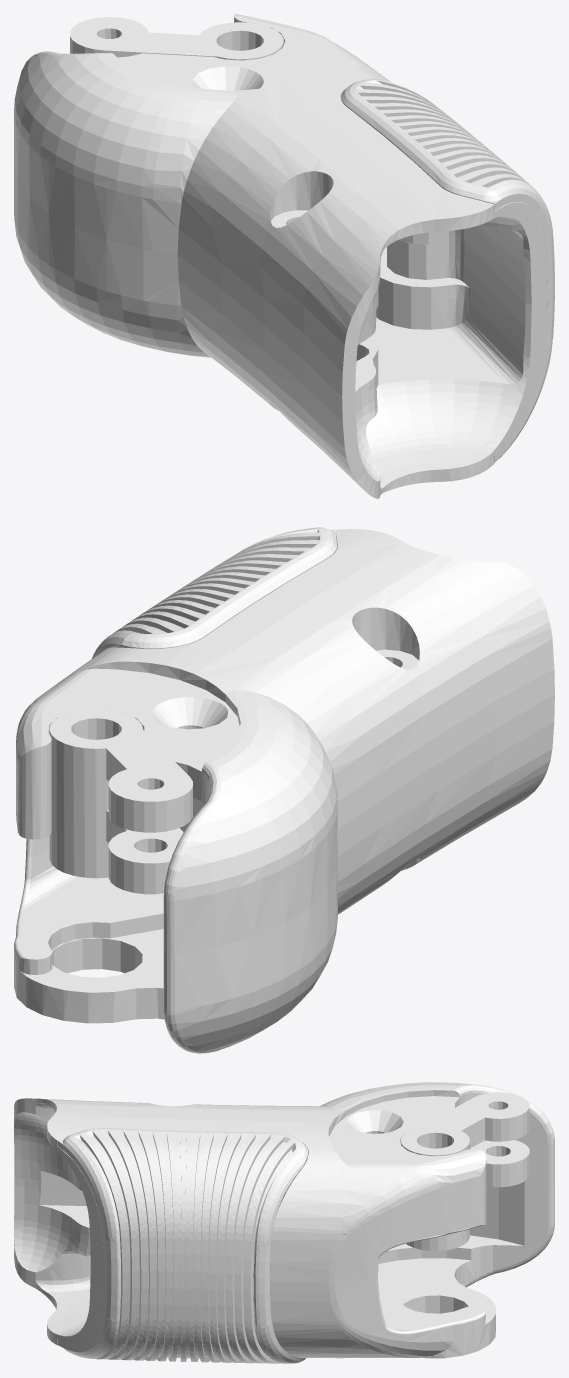
Rendered from rh_thumb_proximal_vis.obj.
3 views of the same model, one above another, from view 1: azimuth 30°, elevation 25°; view 2: azimuth 150°, elevation 25°; view 3: azimuth 270°, elevation 25° (orthographic). The views are drawn at different scales.
Visible parts, largest first — view 1: rh_thumb_proximal; view 2: rh_thumb_proximal; view 3: rh_thumb_proximal.
Part boxes in pixels (x1,y1,x2,y2): rh_thumb_proximal: (14, 14, 554, 498); rh_thumb_proximal: (14, 527, 554, 1053); rh_thumb_proximal: (14, 1082, 554, 1363).
Bounding box in the file's own units: 0.023 × 0.0191 × 0.043.
Materials: 1 (1 with a texture image).
